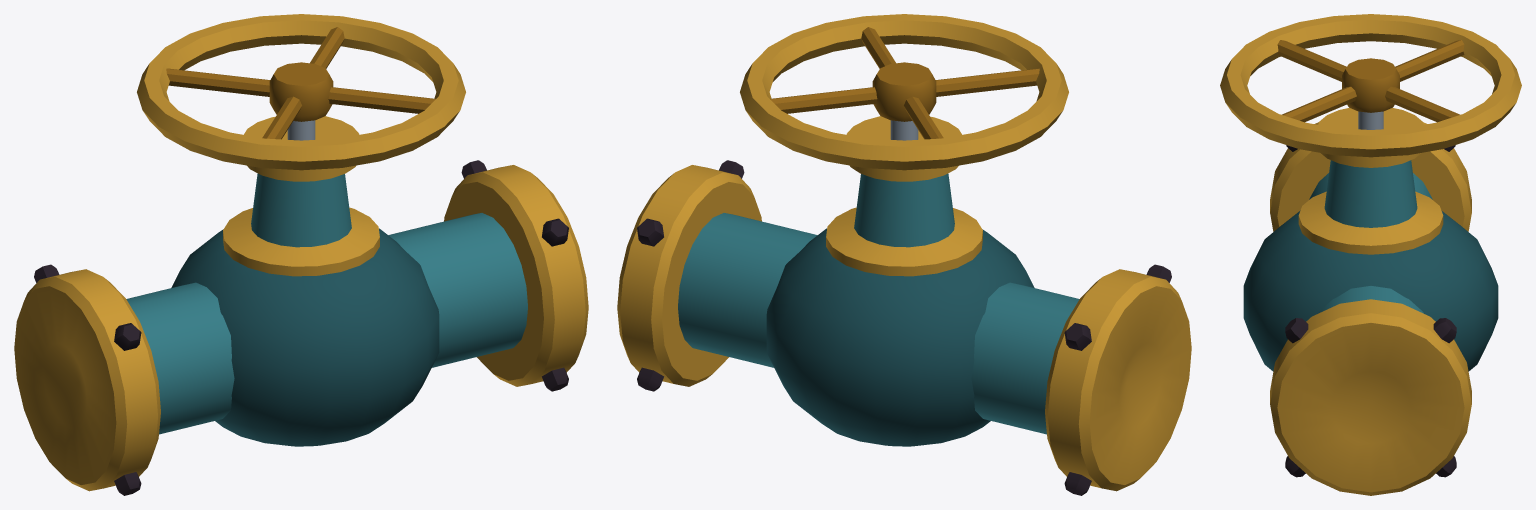
File: Valve_09.glb
The picture shows the model from 3 angles, left to right: view 1: azimuth 30°, elevation 25°; view 2: azimuth 150°, elevation 25°; view 3: azimuth 270°, elevation 25°; orthographic projection. The views are drawn at different scales.
Parts seen in each view (by area): view 1: Valve_09; view 2: Valve_09; view 3: Valve_09.
Part boxes in pixels (<box>): Valve_09: <box>14,14,588,495</box>; Valve_09: <box>617,14,1191,495</box>; Valve_09: <box>1220,14,1521,495</box>.
Bounding box in the file's own units: 2.75 × 1.99 × 1.66.
